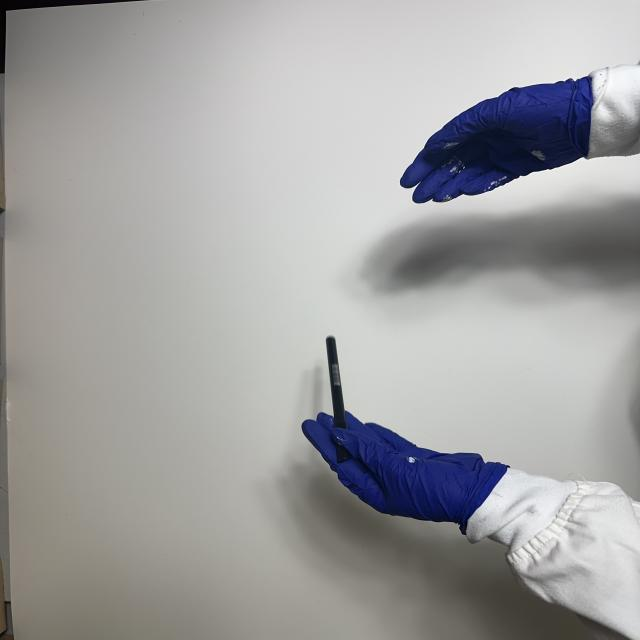gloves_contaminated: (302, 414, 508, 534), (401, 77, 593, 203)
